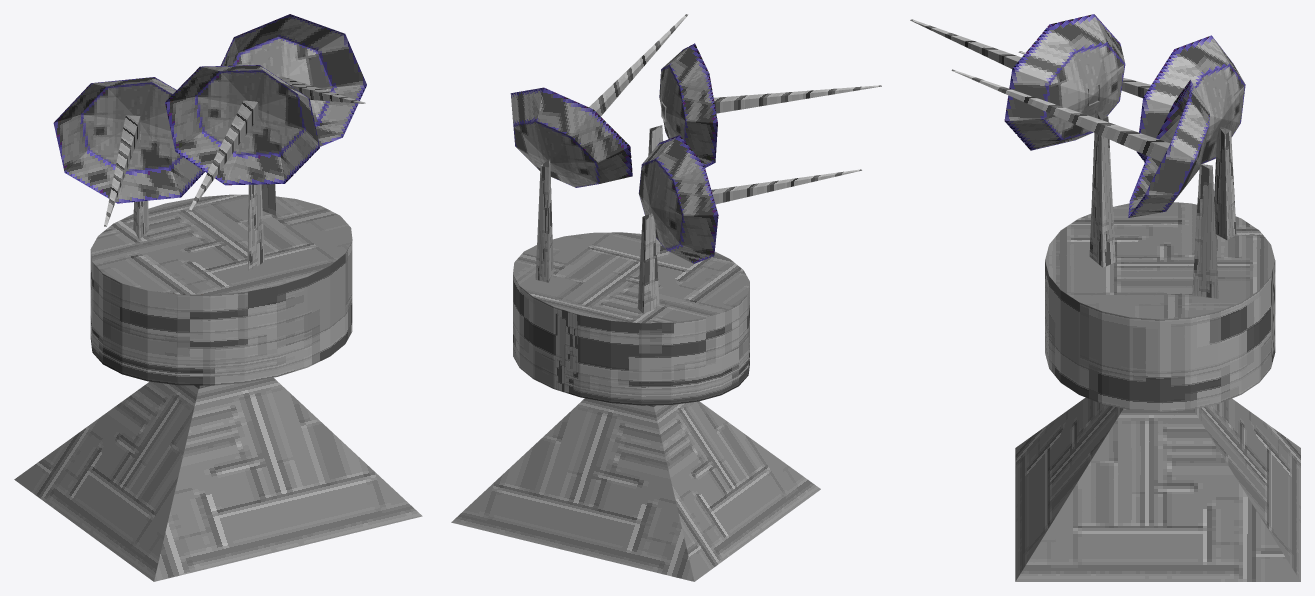
Rendered from sat2.obj.
3 renders of one model, left to right at view 1: azimuth 30°, elevation 25°; view 2: azimuth 150°, elevation 25°; view 3: azimuth 270°, elevation 25°, orthographic. The views are drawn at different scales.
Bounding box in the file's own units: 6.18 × 8.65 × 6.32.
5 materials, 5 textured.
